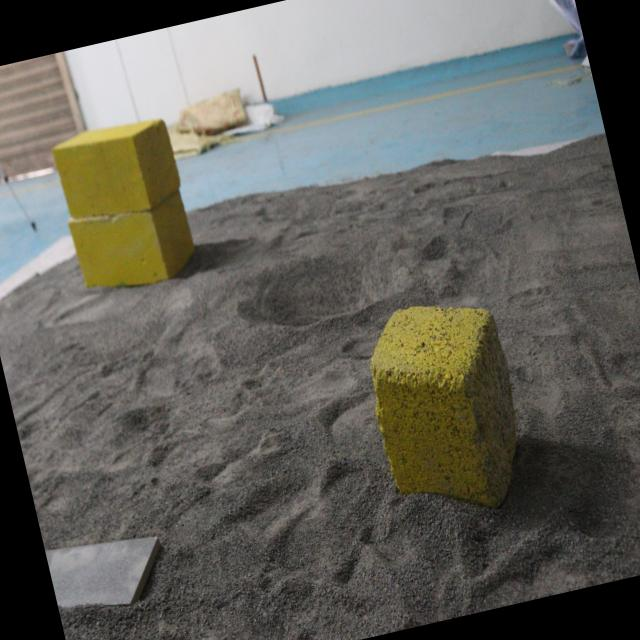box: (348, 280, 537, 524), (44, 100, 204, 297)
crater: (218, 216, 434, 352)
